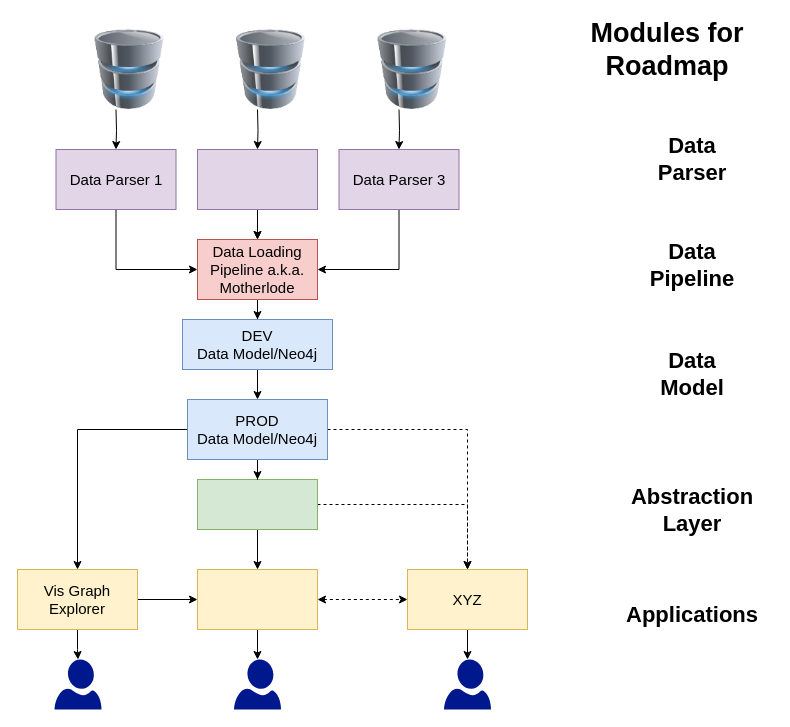
This 790x727 diagram has some shape labels left out. The shapes that lost their labels are listed below. From the top down, each one's box as (x1, y1, x2, y2) in pixels, then its label:
(196, 148, 318, 210): Data Parser 2
(196, 478, 318, 530): API
(196, 568, 318, 630): Structr Table View
